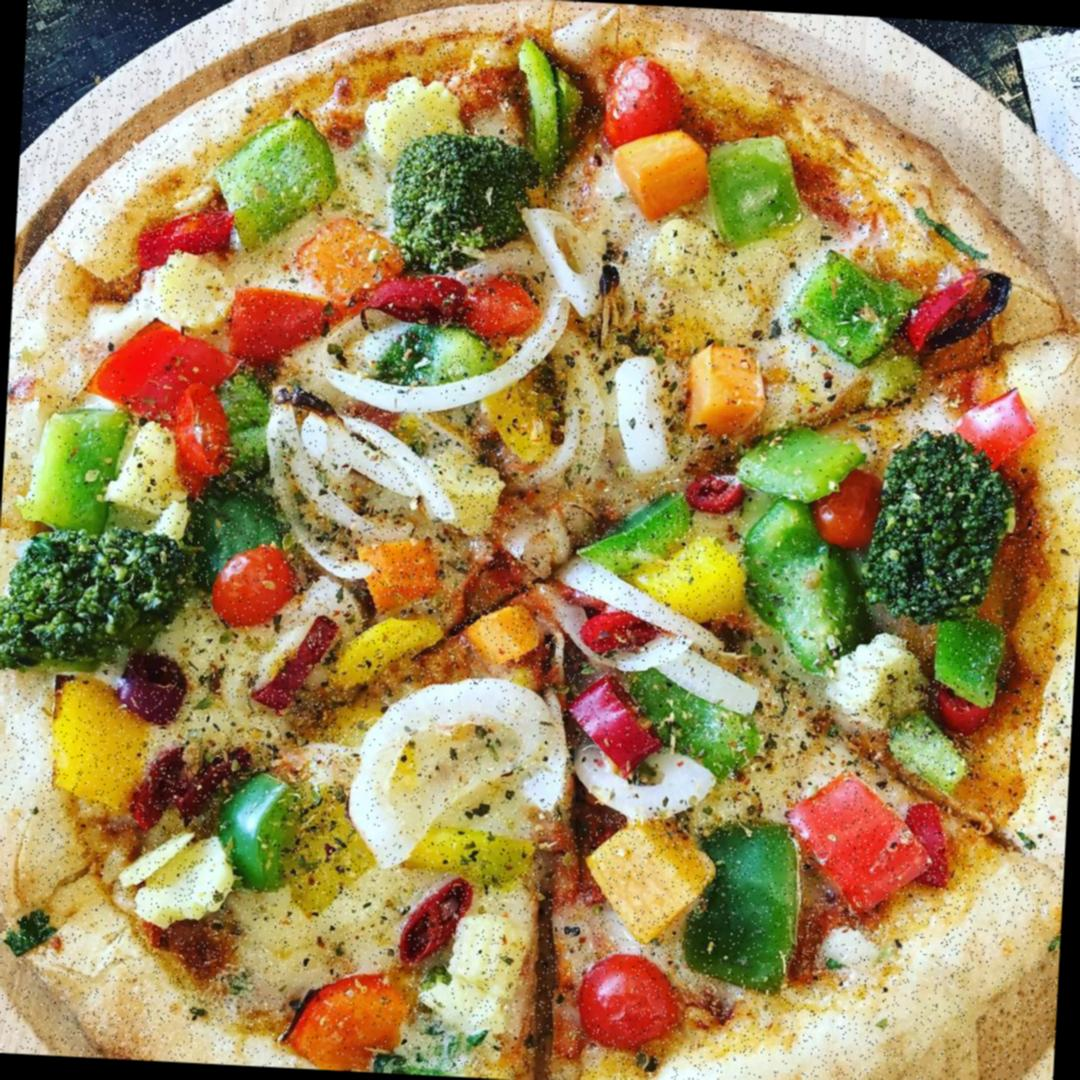Broccoli: (0, 540, 196, 684), (868, 442, 1017, 622), (393, 133, 532, 260)
Onion: (347, 681, 556, 862), (258, 404, 462, 586), (560, 574, 734, 642), (323, 368, 522, 426), (572, 750, 720, 818), (522, 206, 604, 320), (645, 649, 763, 721), (612, 354, 678, 478)
Peppers: (736, 495, 874, 678), (86, 315, 246, 414), (209, 117, 338, 238), (45, 678, 153, 821), (784, 248, 916, 364), (282, 970, 408, 1074), (32, 404, 129, 535), (706, 136, 810, 238), (734, 422, 864, 500), (214, 770, 294, 892), (230, 284, 338, 362), (611, 134, 706, 222), (684, 338, 769, 432), (300, 219, 406, 294), (925, 616, 1006, 711), (888, 712, 969, 796), (954, 384, 1039, 450)
Pizza: (0, 0, 1080, 1080)
Tomatoes: (579, 953, 684, 1050), (600, 51, 688, 146), (462, 272, 539, 348), (212, 552, 291, 625), (172, 380, 232, 473), (134, 210, 237, 260), (819, 471, 883, 549), (900, 802, 954, 890), (936, 691, 995, 738)
